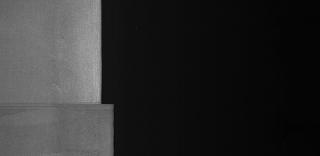welding line: (2, 98, 122, 110)
